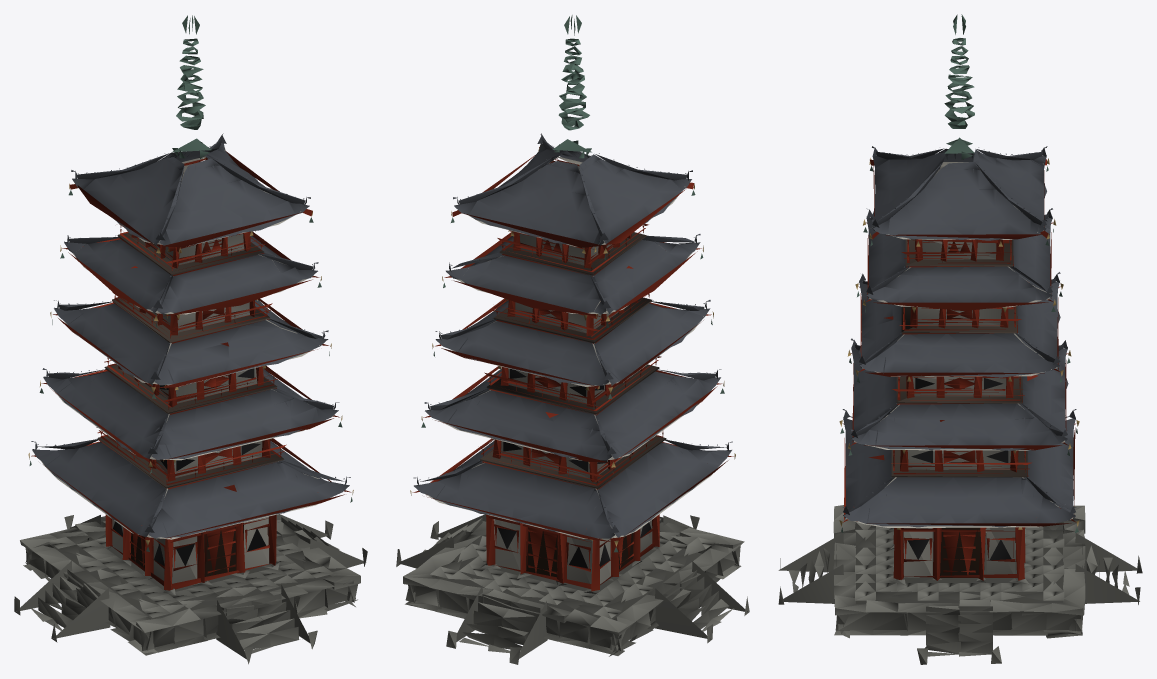
The model's file is SM_Pagoda_5Story.glb.
The picture shows the model from 3 angles, left to right: view 1: azimuth 30°, elevation 25°; view 2: azimuth 150°, elevation 25°; view 3: azimuth 270°, elevation 25°; orthographic projection.
Parts seen in each view (by area): view 1: SM_Pagoda_5Story; view 2: SM_Pagoda_5Story; view 3: SM_Pagoda_5Story.
Part boxes in pixels (x1=…): SM_Pagoda_5Story: x1=14, y1=15, x2=367, y2=664; SM_Pagoda_5Story: x1=396, y1=15, x2=749, y2=664; SM_Pagoda_5Story: x1=778, y1=14, x2=1142, y2=664.
Size of the model in its own units: 13 by 22.65 by 13.
